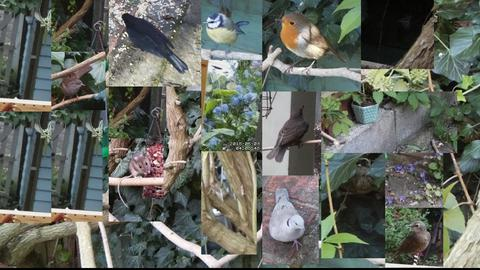blackbird: (121, 12, 189, 74)
blue tit: (203, 12, 250, 58)
collared dove: (268, 188, 306, 252)
dunnock: (60, 64, 93, 106)
mouse: (117, 151, 151, 209)
robin: (275, 12, 348, 79)
starling: (266, 104, 309, 163), (390, 220, 431, 265)
